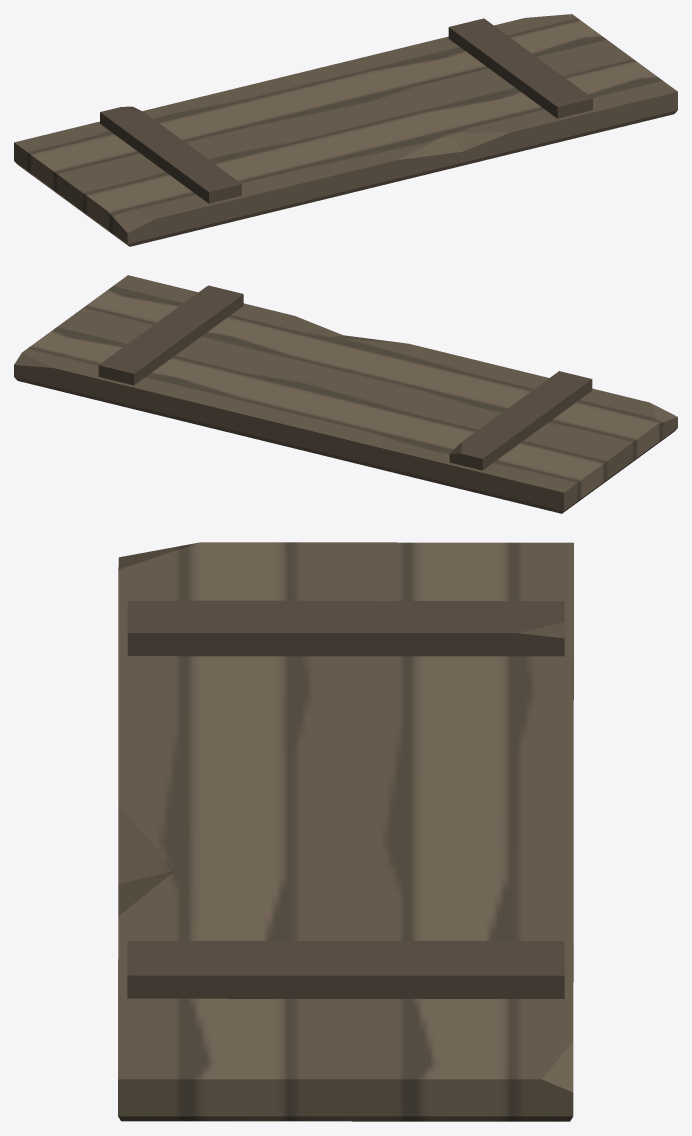
File: SM_Prop_Crate_Wood_Lid_02.glb
3 views of the same model, one above another, from view 1: azimuth 30°, elevation 25°; view 2: azimuth 150°, elevation 25°; view 3: azimuth 270°, elevation 25° (orthographic). The views are drawn at different scales.
Visible parts, largest first — view 1: SM_Prop_Crate_Wood_Lid_02; view 2: SM_Prop_Crate_Wood_Lid_02; view 3: SM_Prop_Crate_Wood_Lid_02.
Boxes of the visible parts, <box> form: SM_Prop_Crate_Wood_Lid_02: <box>14,14,677,246</box>; SM_Prop_Crate_Wood_Lid_02: <box>14,275,677,513</box>; SM_Prop_Crate_Wood_Lid_02: <box>118,542,573,1121</box>.
Bounding box in the file's own units: 2.02 × 0.1194 × 0.7248.
Materials: 1 (1 with a texture image).
